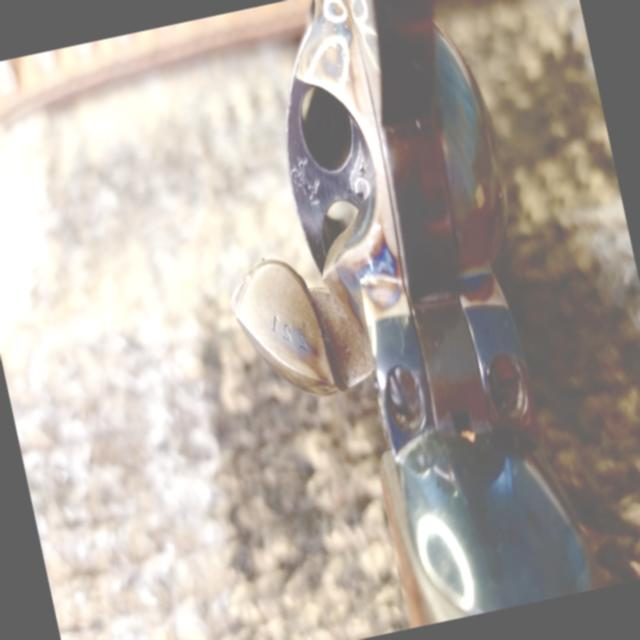revolver: (176, 0, 612, 640)
